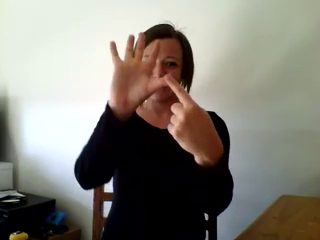A: (103, 30, 224, 163)
